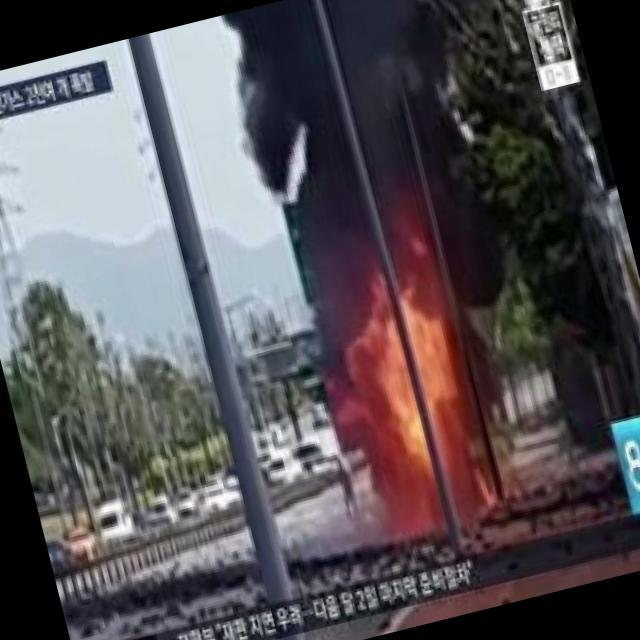Fire: (343, 311, 508, 554)
